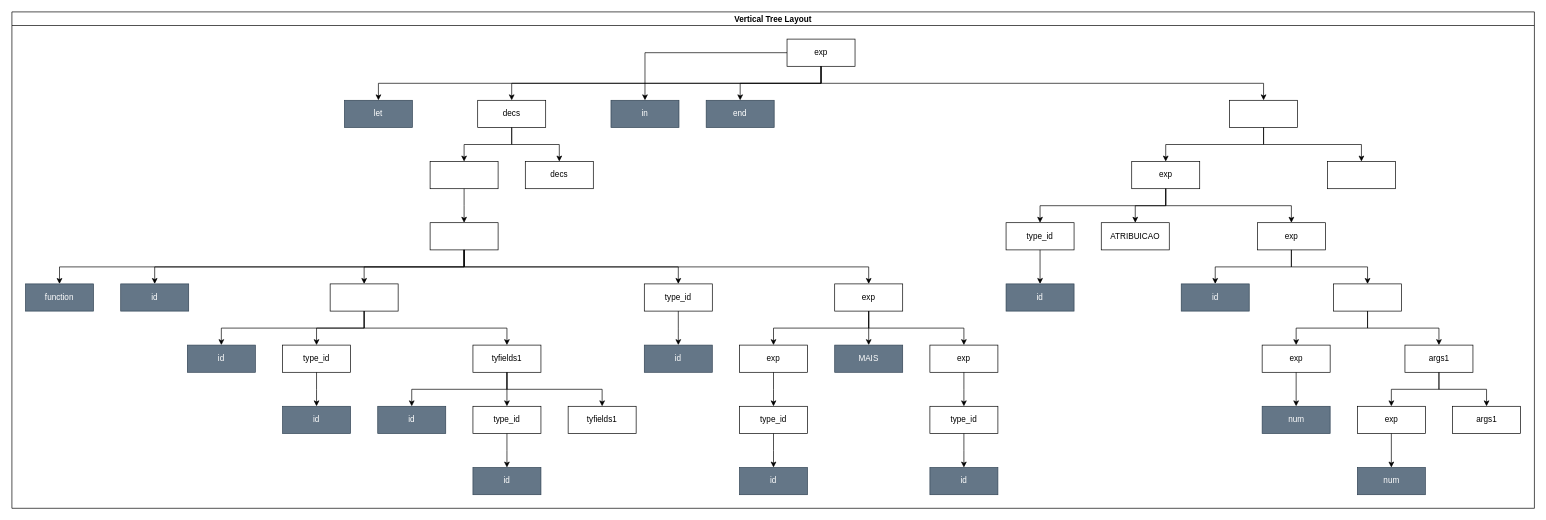
The diagram is 1546 pixels wide and 520 high, and some of its shapes have lost their labels. The box of each missing label's shape, as (x1, y1, x2, y2) in pixels:
args: (1333, 283, 1402, 311)
dec: (429, 161, 498, 189)
expseq: (1229, 100, 1298, 128)
expseq1: (1327, 161, 1395, 189)
fundec: (429, 222, 498, 250)
tyfields: (329, 283, 398, 311)
